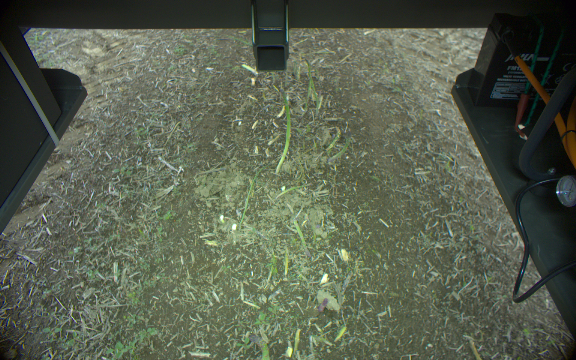aspa: (281, 203, 314, 258), (272, 88, 291, 175), (327, 129, 352, 168), (297, 56, 313, 109), (246, 329, 272, 360), (322, 125, 342, 154), (313, 294, 332, 317), (291, 326, 304, 356), (333, 324, 348, 347)
